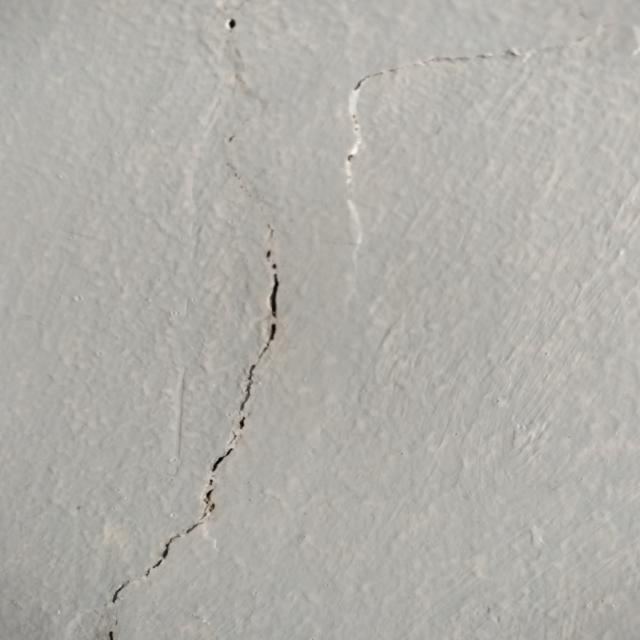Crack: (76, 236, 298, 640)
